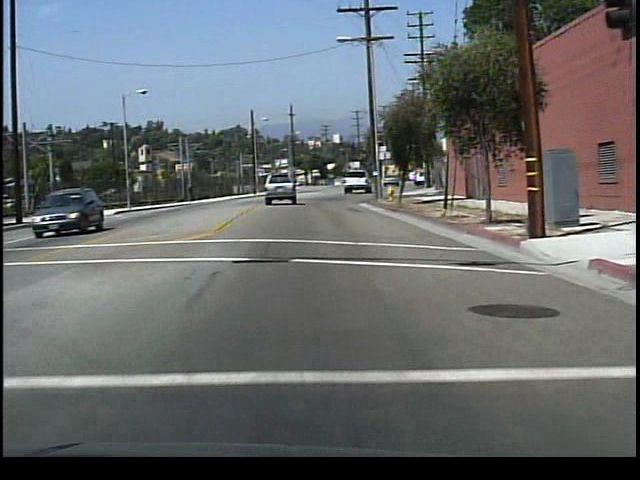person: (187, 180, 204, 204)
